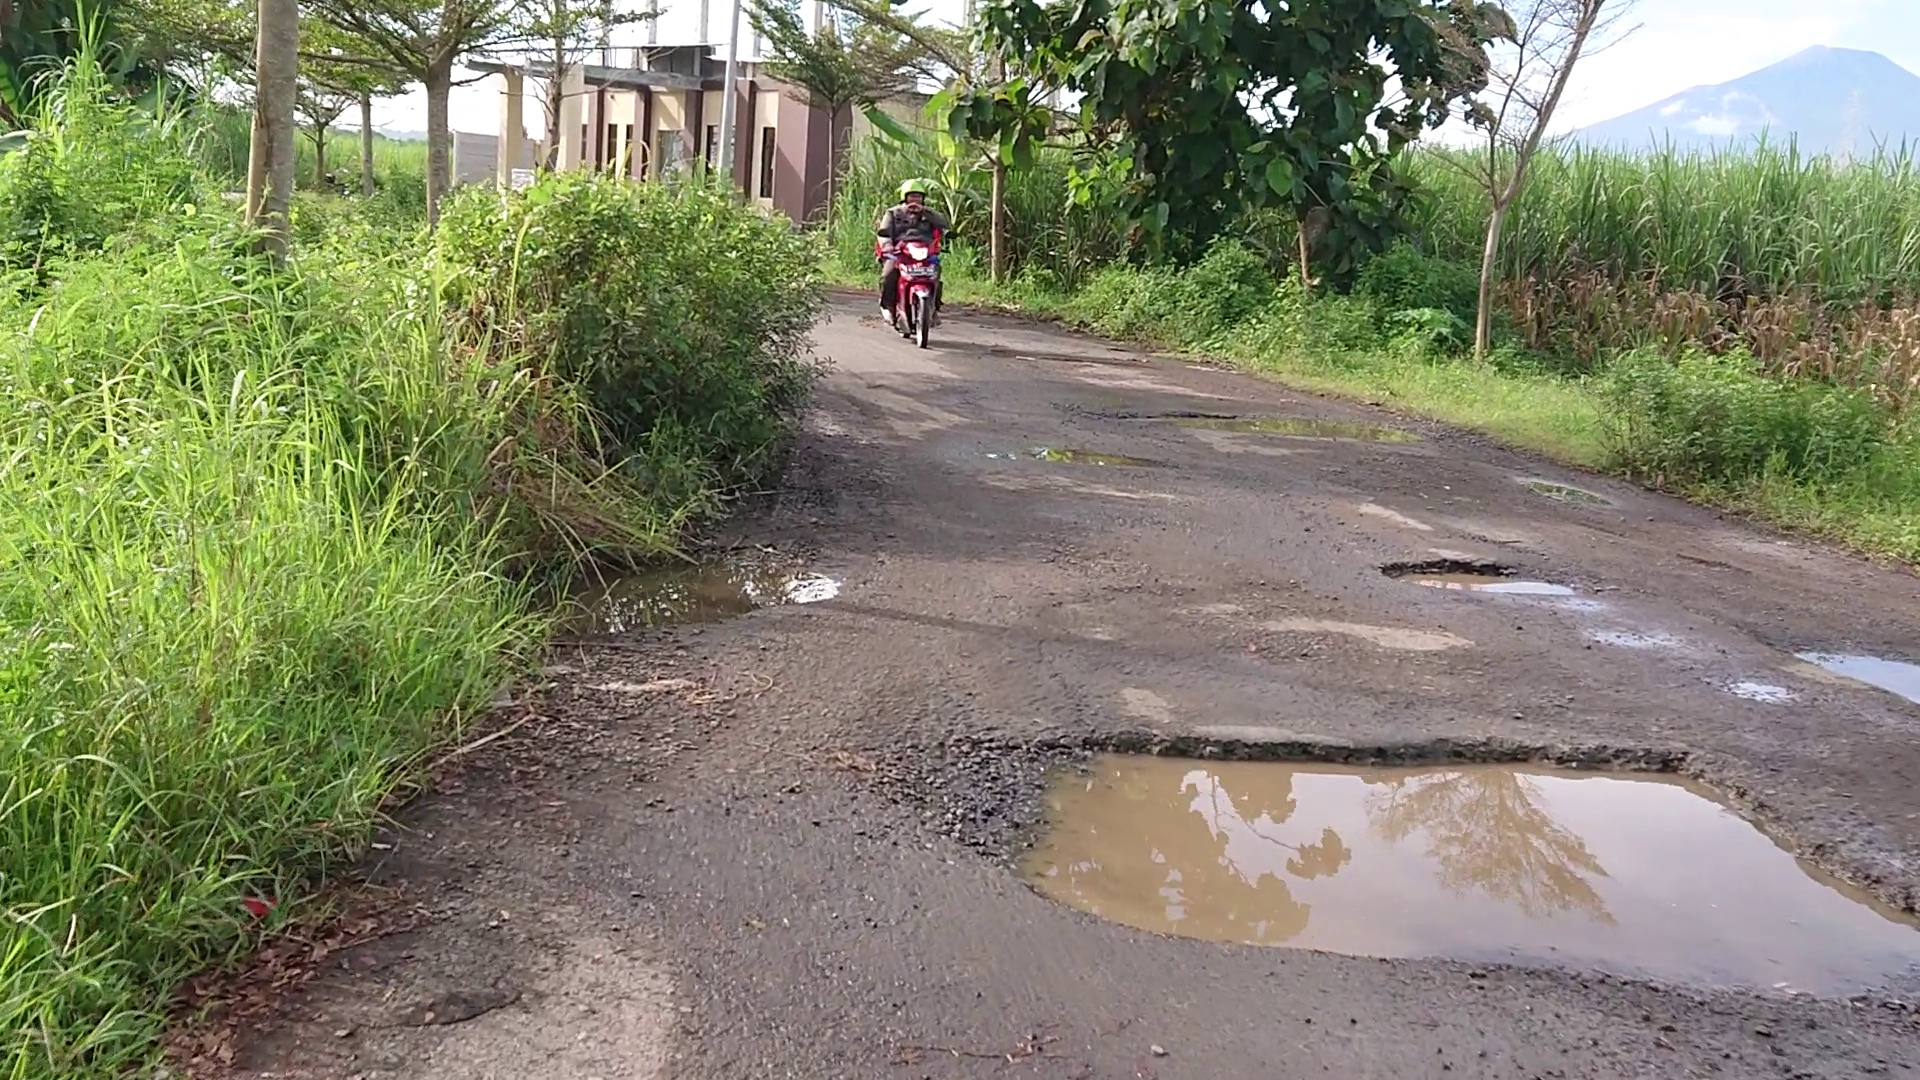Berlubang: (1040, 756, 1920, 994), (1175, 401, 1391, 446), (1785, 634, 1920, 702), (1391, 562, 1571, 599)
